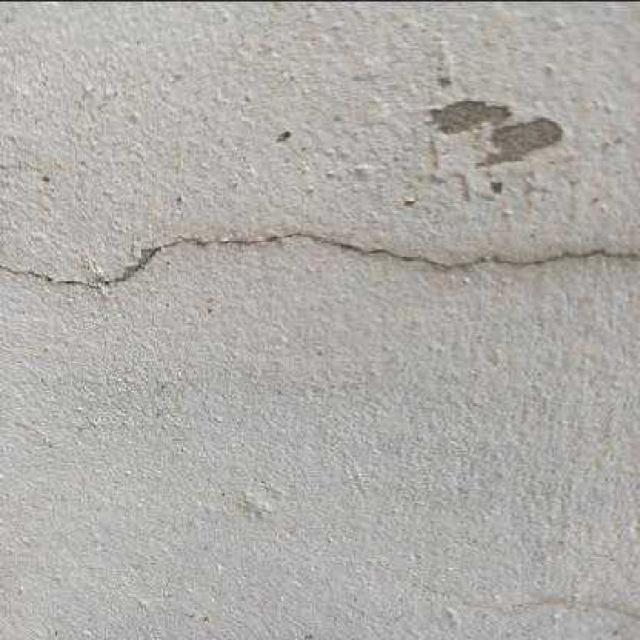D00: (0, 230, 639, 288)
